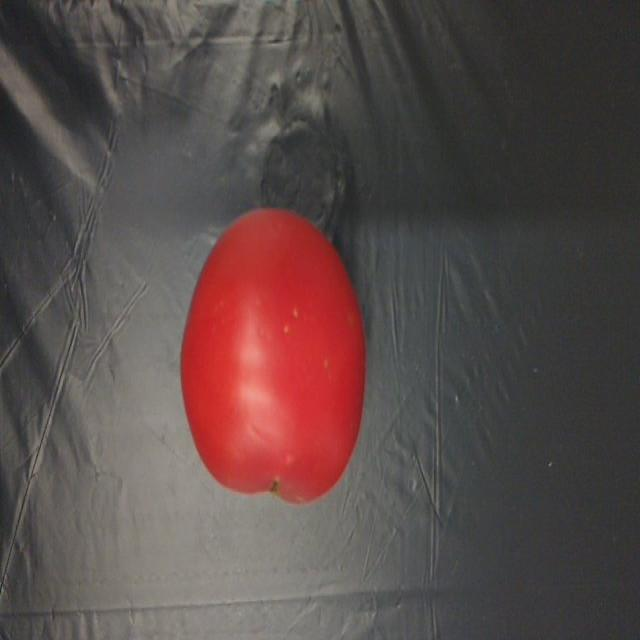kirmizi: (146, 183, 388, 505)
